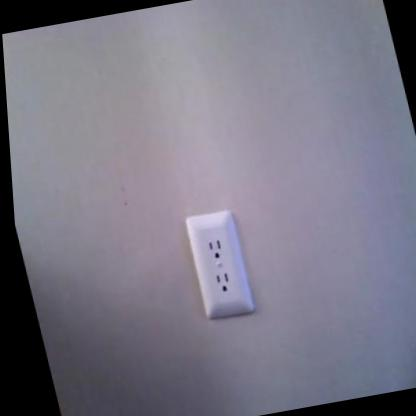OUTLET: (182, 208, 256, 319)
